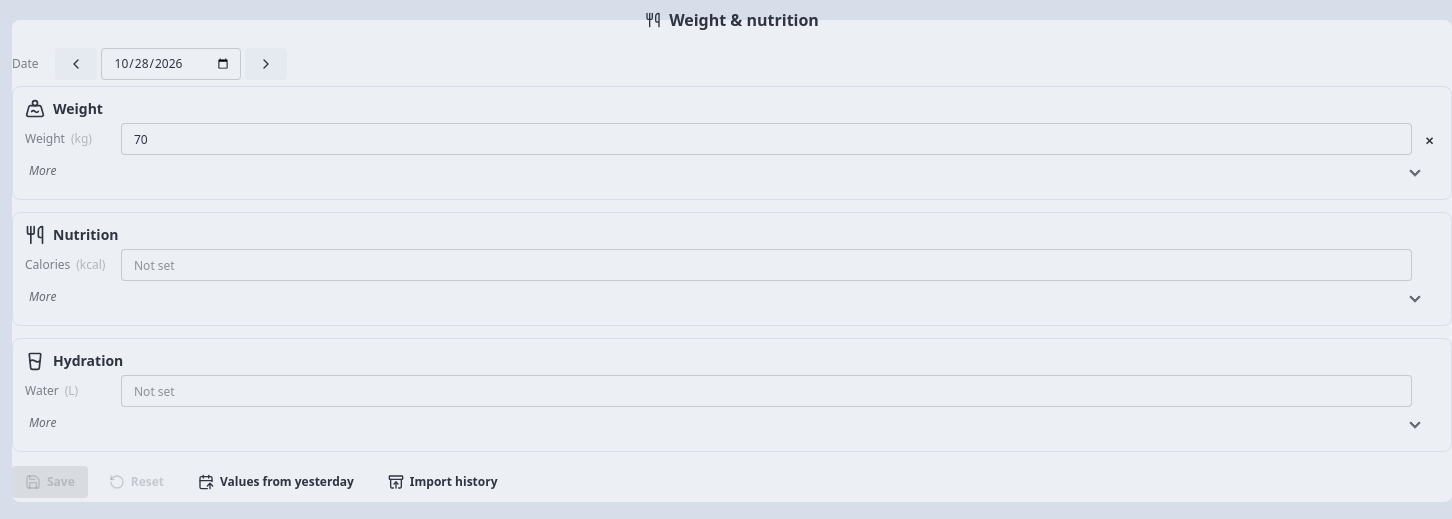
Test: WeightAndNutritionForm › keeps the save button disabled until a measure changes
This screenshot has width=1452, height=519.
expect the button "Save" is disabled: met, box [12,466,88,498]
Replace the text in the number field labelled "Weight (kg)" with "71": coordinates (766, 139) [121,123,1412,155]
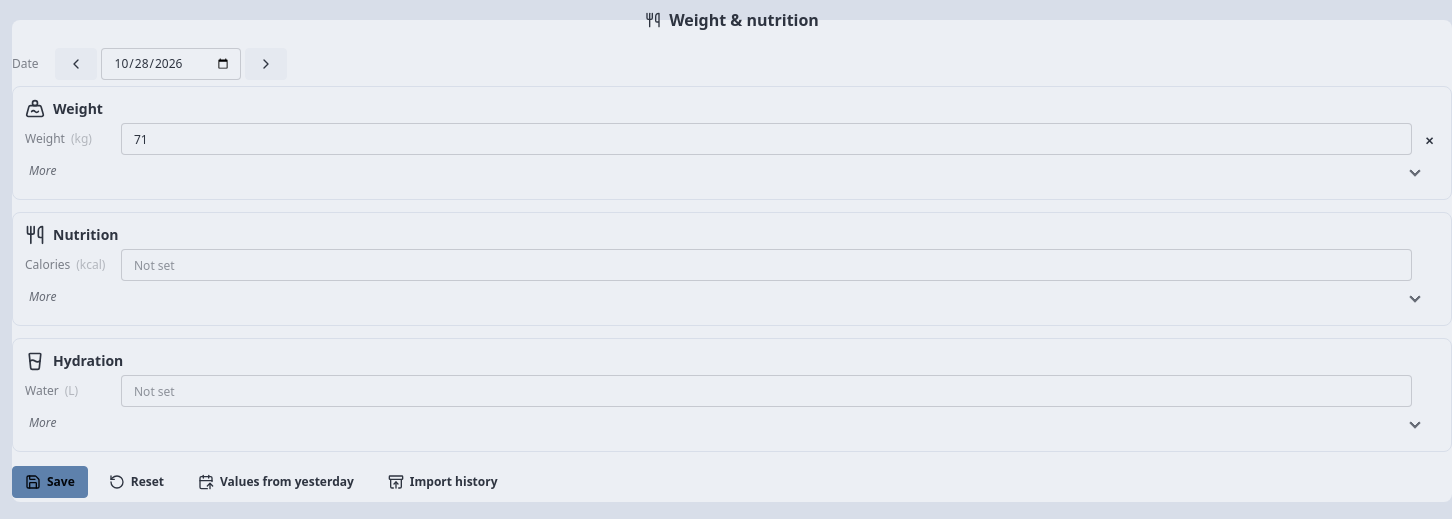
expect the button "Save" is enabled: met, box [12,466,88,498]
Replace the text in the number field labelled "Weight (kg)" with "70": coordinates (766, 139) [121,123,1412,155]
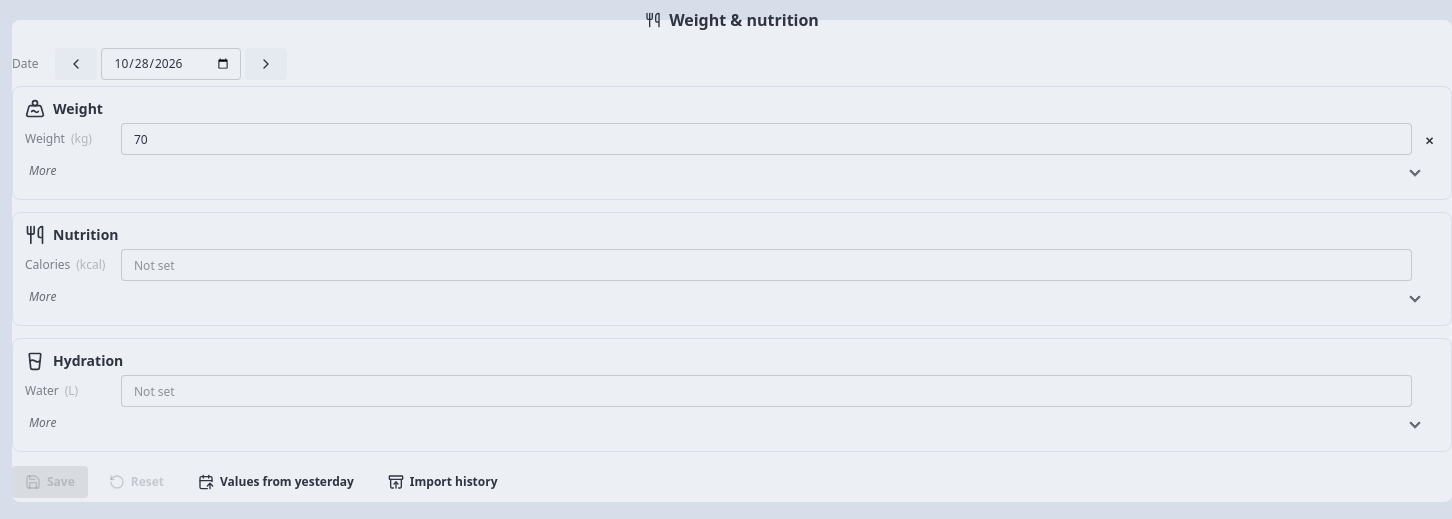
expect the button "Save" is disabled: met, box [12,466,88,498]
